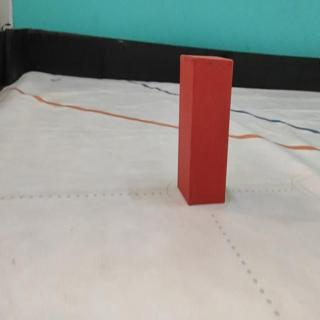redbox: (177, 55, 235, 206)
